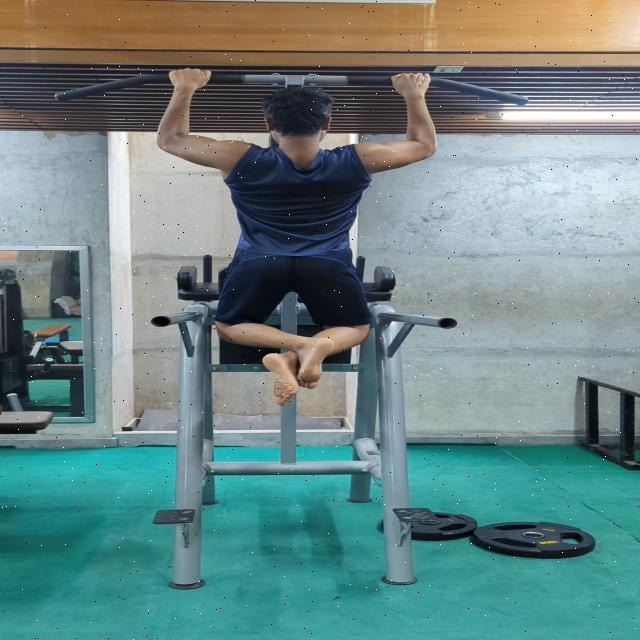Normal_PullUps: (154, 68, 439, 408)
